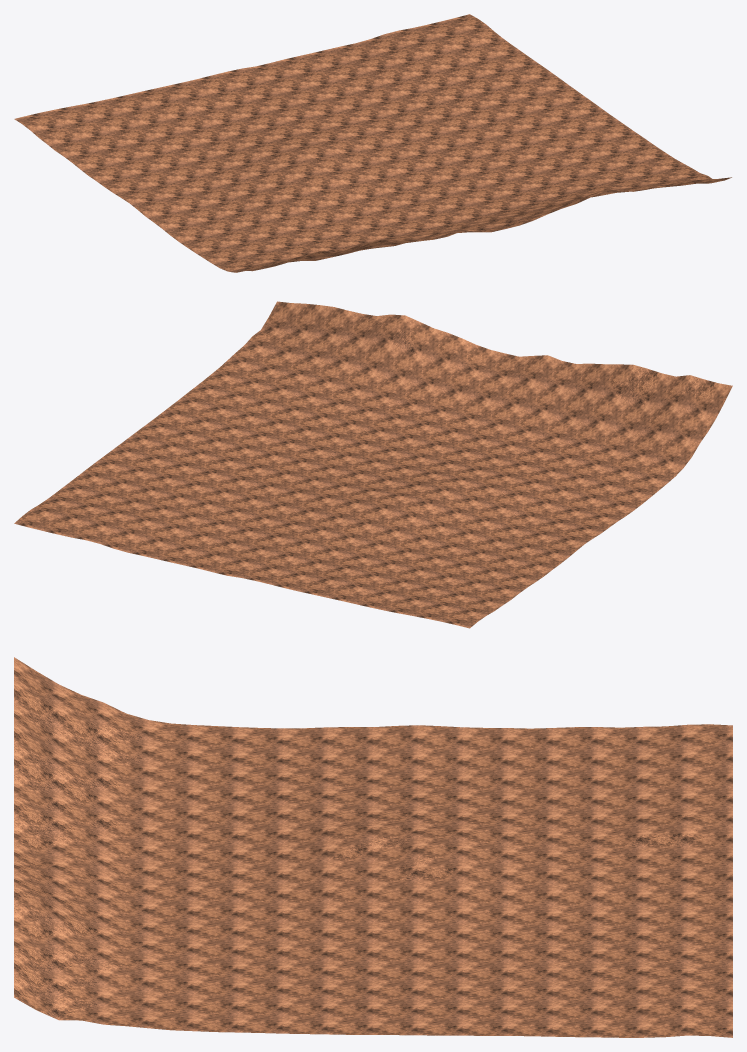
The model's file is terrain_09_05.dae.
The picture shows the model from 3 angles, top to bottom: view 1: azimuth 30°, elevation 25°; view 2: azimuth 150°, elevation 25°; view 3: azimuth 270°, elevation 25°; orthographic projection. The views are drawn at different scales.
Parts seen in each view (by area): view 1: terrain_09_05-node; view 2: terrain_09_05-node; view 3: terrain_09_05-node.
Boxes of the visible parts, bbox=[...] form: terrain_09_05-node: bbox=[14, 14, 731, 272]; terrain_09_05-node: bbox=[14, 301, 732, 628]; terrain_09_05-node: bbox=[14, 657, 732, 1037].
Size of the model in its own units: 128 by 128 by 15.55.
Materials: 1 (1 with a texture image).
